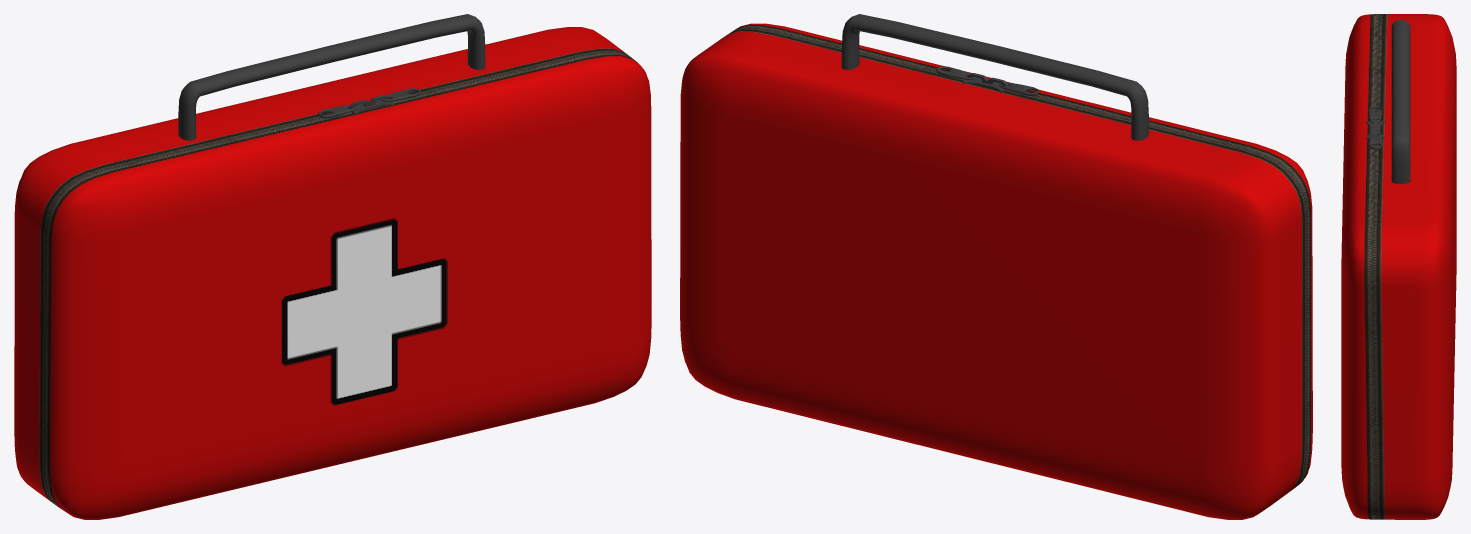
The model's file is förstahjälpkit.fbx.
The picture shows the model from 3 angles, left to right: view 1: azimuth 30°, elevation 25°; view 2: azimuth 150°, elevation 25°; view 3: azimuth 270°, elevation 25°; orthographic projection. The views are drawn at different scales.
Parts seen in each view (by area): view 1: polySurface7; view 2: polySurface7; view 3: polySurface7.
Part boxes in pixels (x1,y1,x2,y2): polySurface7: [14, 14, 651, 519]; polySurface7: [680, 14, 1312, 519]; polySurface7: [1341, 14, 1456, 519].
Bounding box in the file's own units: 3.13 × 1.98 × 0.6143.
2 materials, 2 textured.
